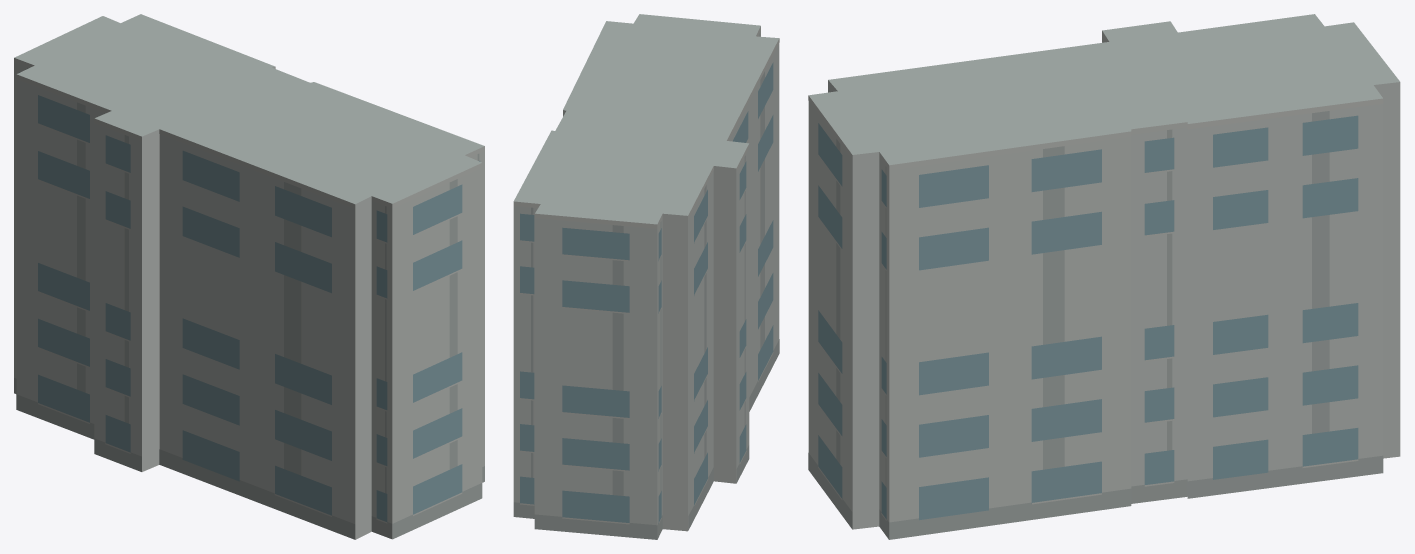
Rendered from survey-upis-32613205.glb.
The picture shows the model from 3 angles, left to right: view 1: azimuth 30°, elevation 25°; view 2: azimuth 150°, elevation 25°; view 3: azimuth 270°, elevation 25°; orthographic projection. The views are drawn at different scales.
Parts seen in each view (by area): view 1: survey-upis-32613205.tmp; view 2: survey-upis-32613205.tmp; view 3: survey-upis-32613205.tmp.
Boxes of the visible parts, x1,y1,x2,y2 form: survey-upis-32613205.tmp: (14, 14, 484, 539); survey-upis-32613205.tmp: (513, 14, 779, 539); survey-upis-32613205.tmp: (808, 14, 1400, 539).
Bounding box in the file's own units: 14.69 × 16.95 × 24.28.
